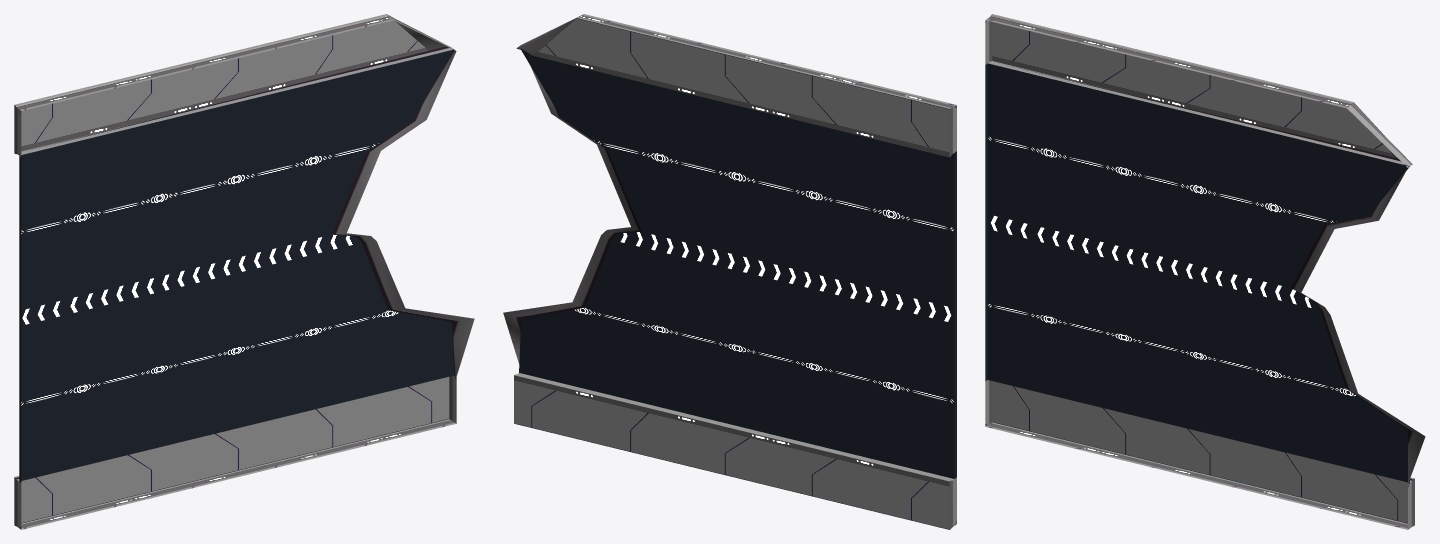
Rendered from SM_L_BRoad2 1.fbx.
The picture shows the model from 3 angles, left to right: view 1: azimuth 30°, elevation 25°; view 2: azimuth 150°, elevation 25°; view 3: azimuth 330°, elevation 25°; orthographic projection. The views are drawn at different scales.
Visible parts, largest first — view 1: SM_L_BRoad2; view 2: SM_L_BRoad2; view 3: SM_L_BRoad2.
Boxes of the visible parts, left/top/right/bottom form: SM_L_BRoad2: left=14, top=14, right=474, bottom=529; SM_L_BRoad2: left=503, top=14, right=956, bottom=529; SM_L_BRoad2: left=985, top=14, right=1425, bottom=529.
Size of the model in its own units: 5644 by 155 by 5003.
